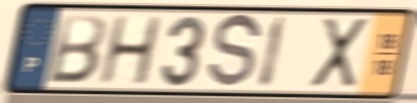3: (158, 13, 206, 89)
B: (43, 12, 109, 87)
H: (95, 14, 164, 88)
I: (255, 14, 290, 92)
S: (204, 11, 264, 93)
X: (309, 16, 371, 91)
